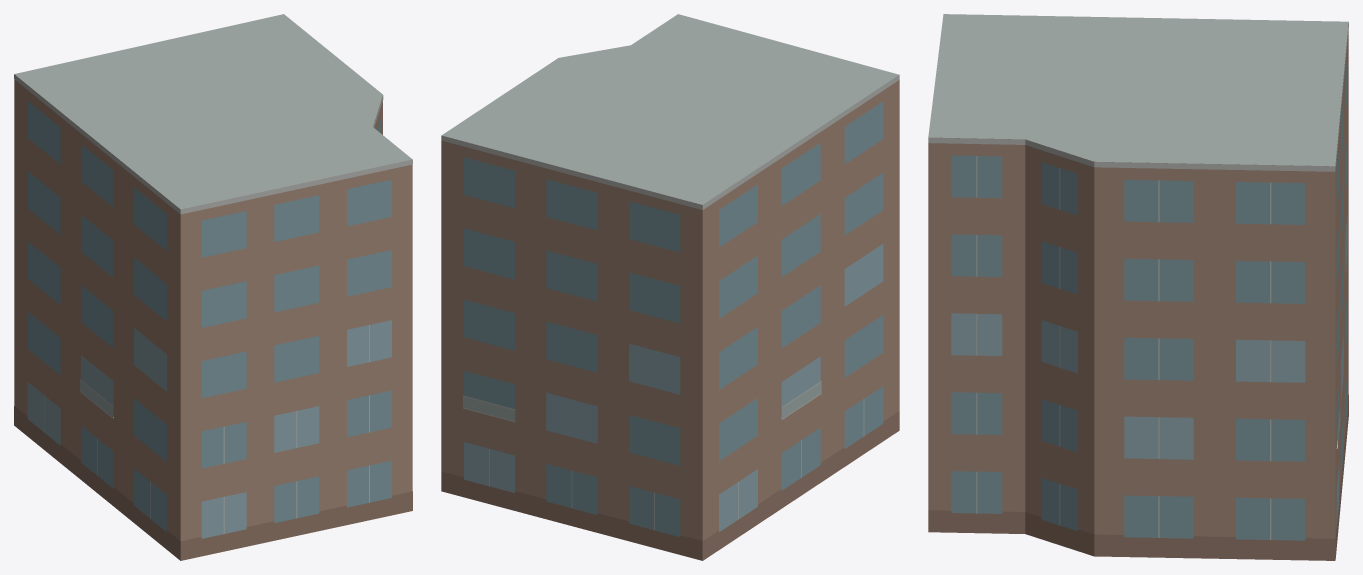
File: survey-upis-32916604.glb
3 renders of one model, left to right at view 1: azimuth 30°, elevation 25°; view 2: azimuth 150°, elevation 25°; view 3: azimuth 270°, elevation 25°, orthographic. The views are drawn at different scales.
Parts seen in each view (by area): view 1: survey-upis-32916604.tmp; view 2: survey-upis-32916604.tmp; view 3: survey-upis-32916604.tmp.
Part boxes in pixels (<box>): survey-upis-32916604.tmp: <box>14,14,412,560</box>; survey-upis-32916604.tmp: <box>441,14,899,560</box>; survey-upis-32916604.tmp: <box>928,14,1348,560</box>.
Bounding box in the file's own units: 14.24 × 17.2 × 16.62.
